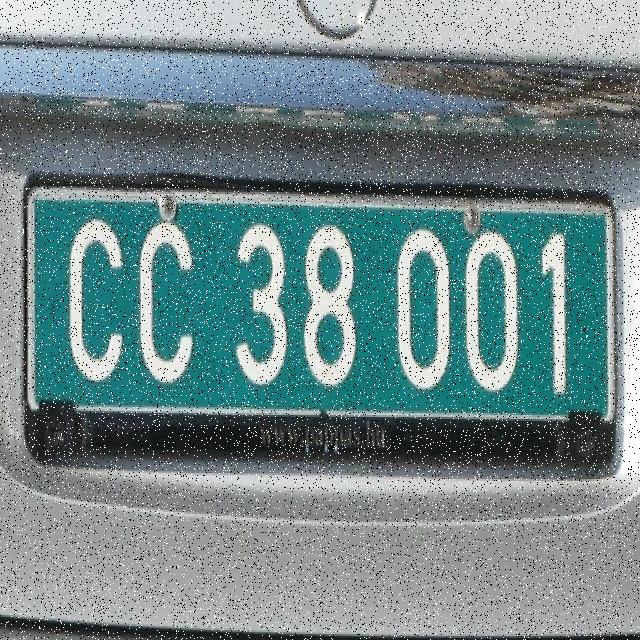licenseplate: (22, 176, 618, 454)
